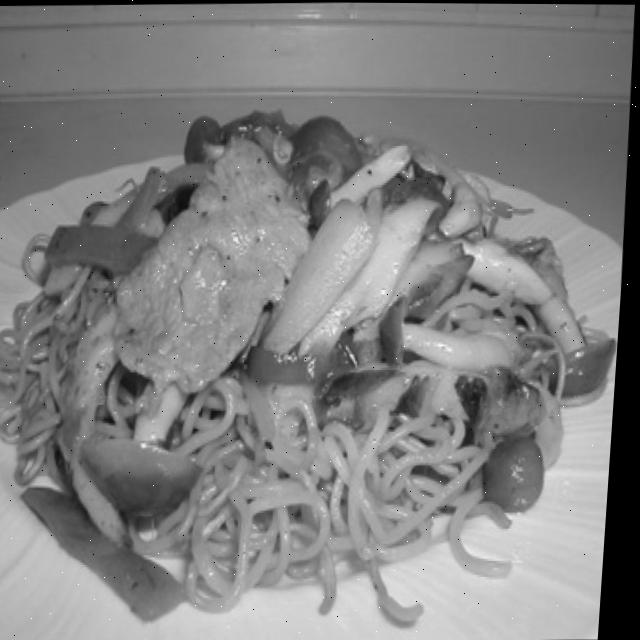面条主食: (0, 78, 636, 640)
